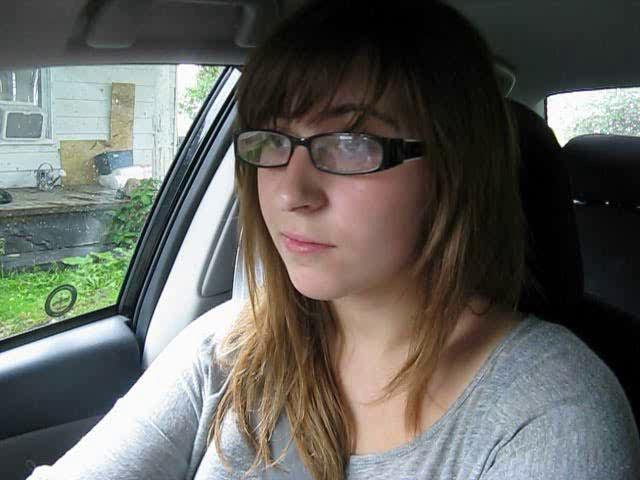no_yawn: (264, 222, 347, 268)
open_eyeL: (244, 124, 301, 167)
open_eyeR: (315, 120, 401, 174)
